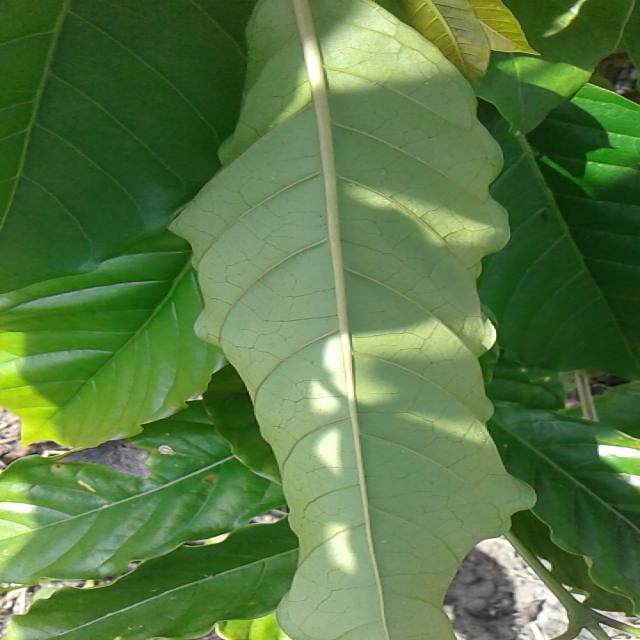Sanas: (171, 38, 539, 640)
